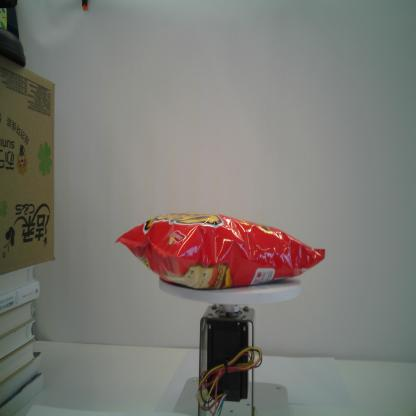Puffed Food: (112, 212, 326, 290)
